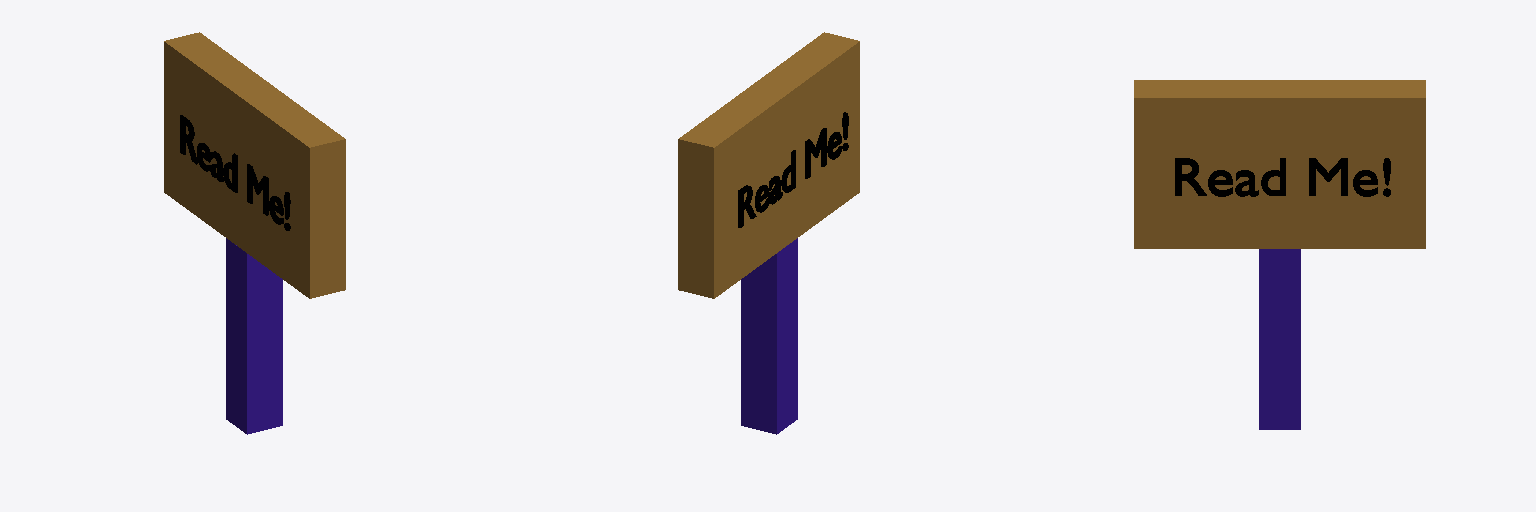
File: Sign.obj
3 renders of one model, left to right at view 1: azimuth 30°, elevation 25°; view 2: azimuth 150°, elevation 25°; view 3: azimuth 270°, elevation 25°, orthographic.
Parts seen in each view (by area): view 1: Cube.001_Cube.002, Cube_Cube.001, Text.001_Read_Me!.001; view 2: Cube.001_Cube.002, Cube_Cube.001, Text.001_Read_Me!.001; view 3: Cube.001_Cube.002, Cube_Cube.001, Text_Read_Me!.
Boxes of the visible parts, x1,y1,x2,y2 form: Cube.001_Cube.002: [164, 32, 345, 298]; Cube_Cube.001: [226, 238, 282, 434]; Text.001_Read_Me!.001: [180, 115, 290, 230]; Cube.001_Cube.002: [678, 32, 859, 298]; Cube_Cube.001: [741, 238, 797, 434]; Text.001_Read_Me!.001: [738, 112, 848, 227]; Cube.001_Cube.002: [1134, 80, 1425, 248]; Cube_Cube.001: [1259, 249, 1300, 429]; Text_Read_Me!: [1175, 158, 1390, 196].
Size of the model in its own units: 0.5451 by 3.52 by 2.8.